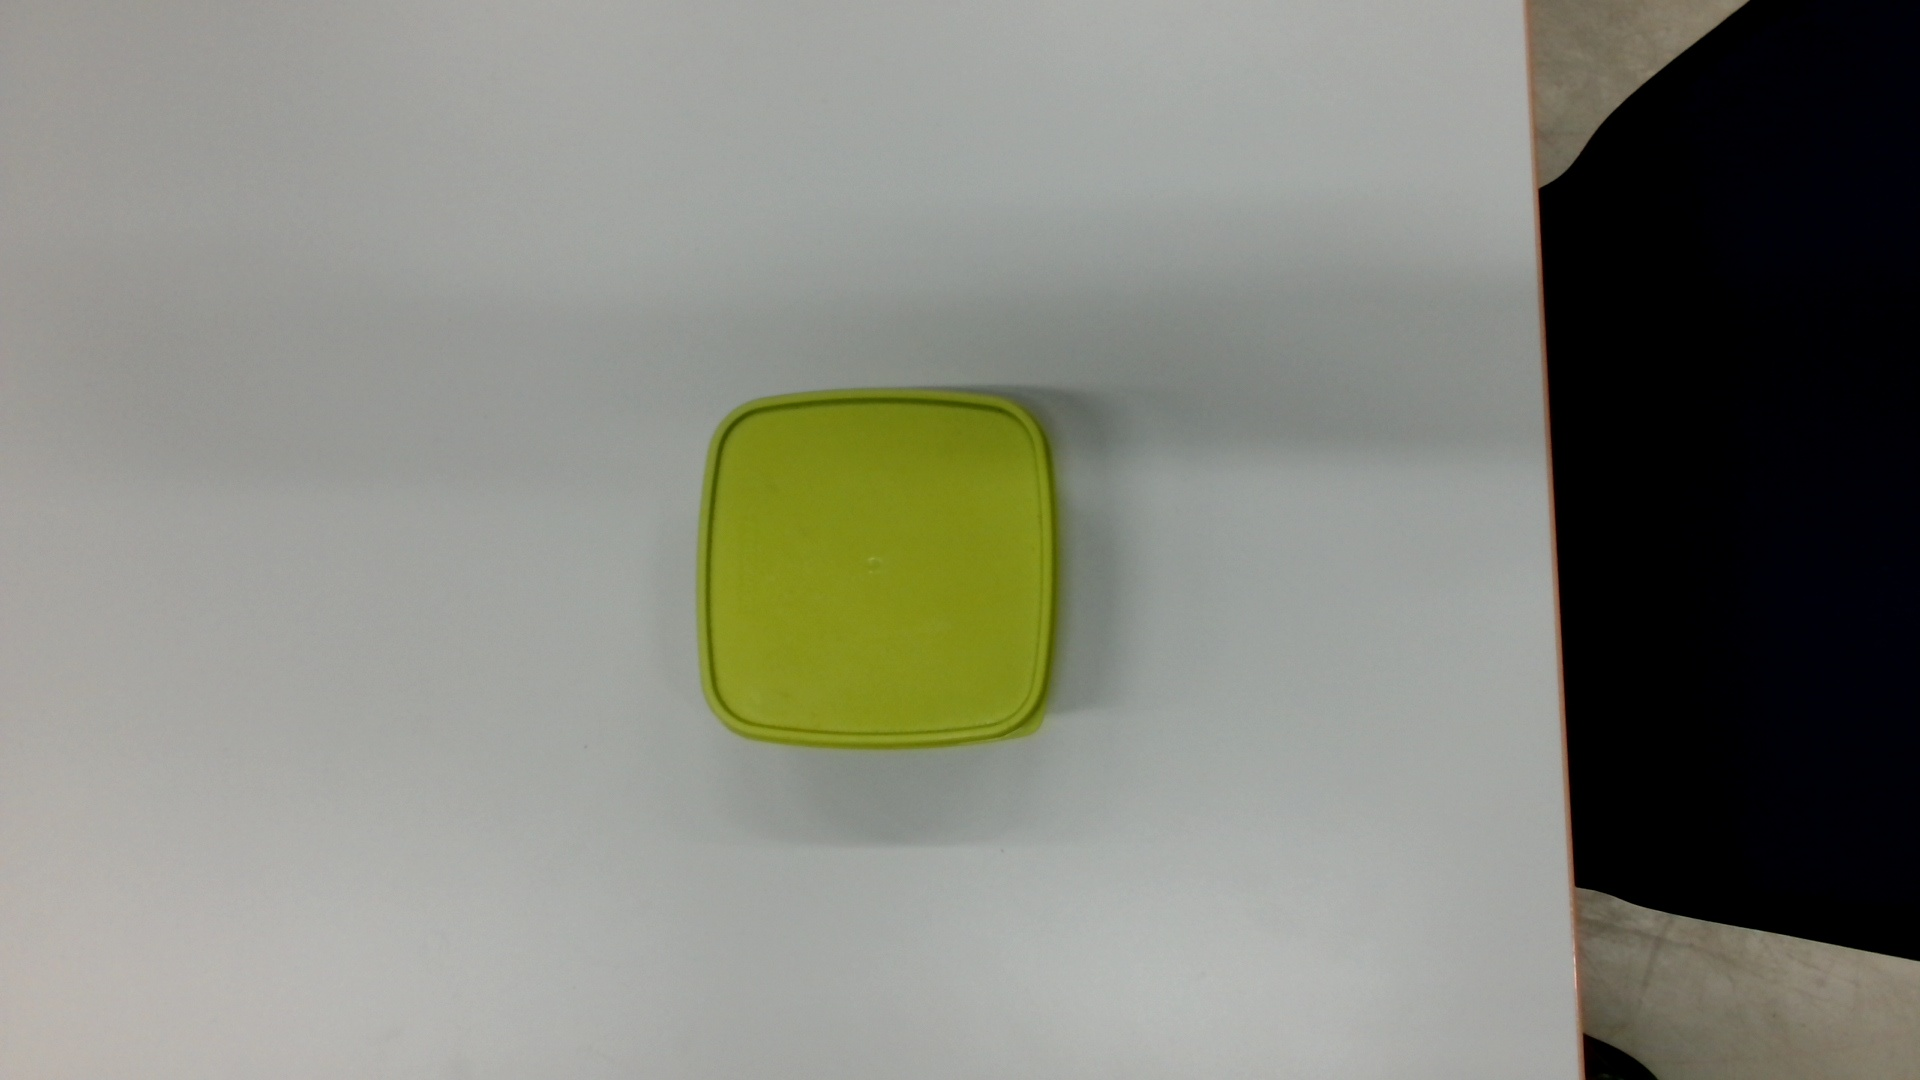Box: (688, 377, 1069, 754)
